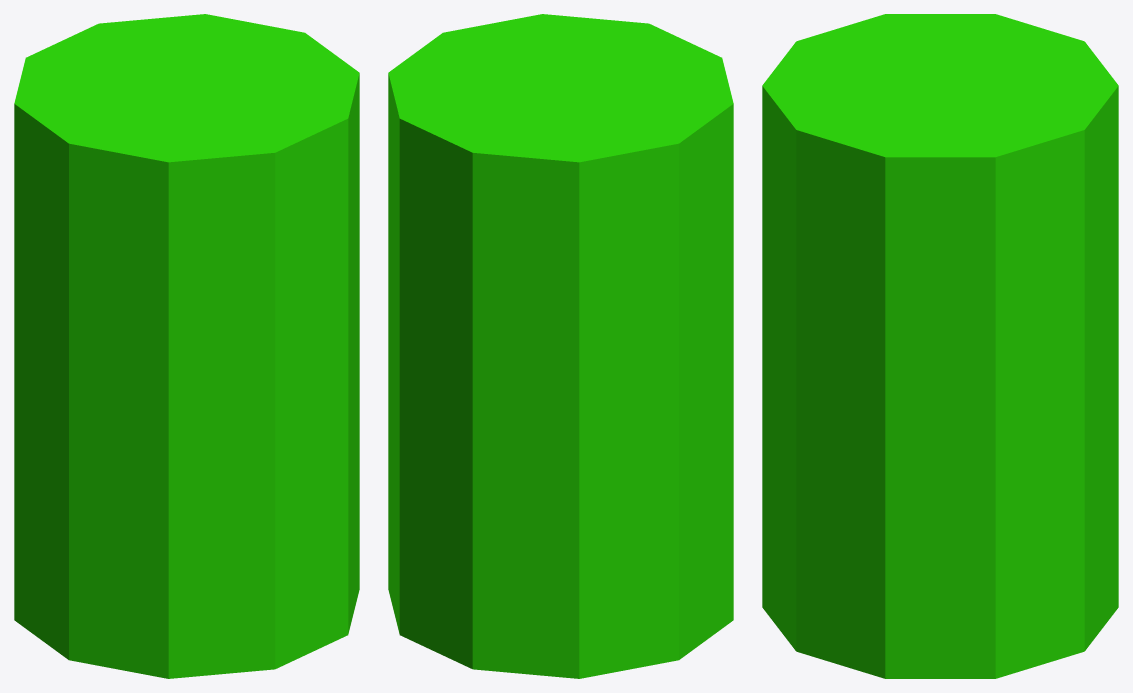
File: Oil_Tank_03_Lod2.fbx
3 views of the same model, side by side, from view 1: azimuth 30°, elevation 25°; view 2: azimuth 150°, elevation 25°; view 3: azimuth 270°, elevation 25° (orthographic).
Parts seen in each view (by area): view 1: Oil_Tank_03_Lod2; view 2: Oil_Tank_03_Lod2; view 3: Oil_Tank_03_Lod2.
Boxes of the visible parts, bbox=[...] form: Oil_Tank_03_Lod2: bbox=[14, 14, 359, 678]; Oil_Tank_03_Lod2: bbox=[388, 14, 733, 678]; Oil_Tank_03_Lod2: bbox=[762, 14, 1118, 678].
Size of the model in its own units: 57.75 by 98.05 by 60.72.
